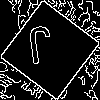J: (25, 25, 56, 75)
